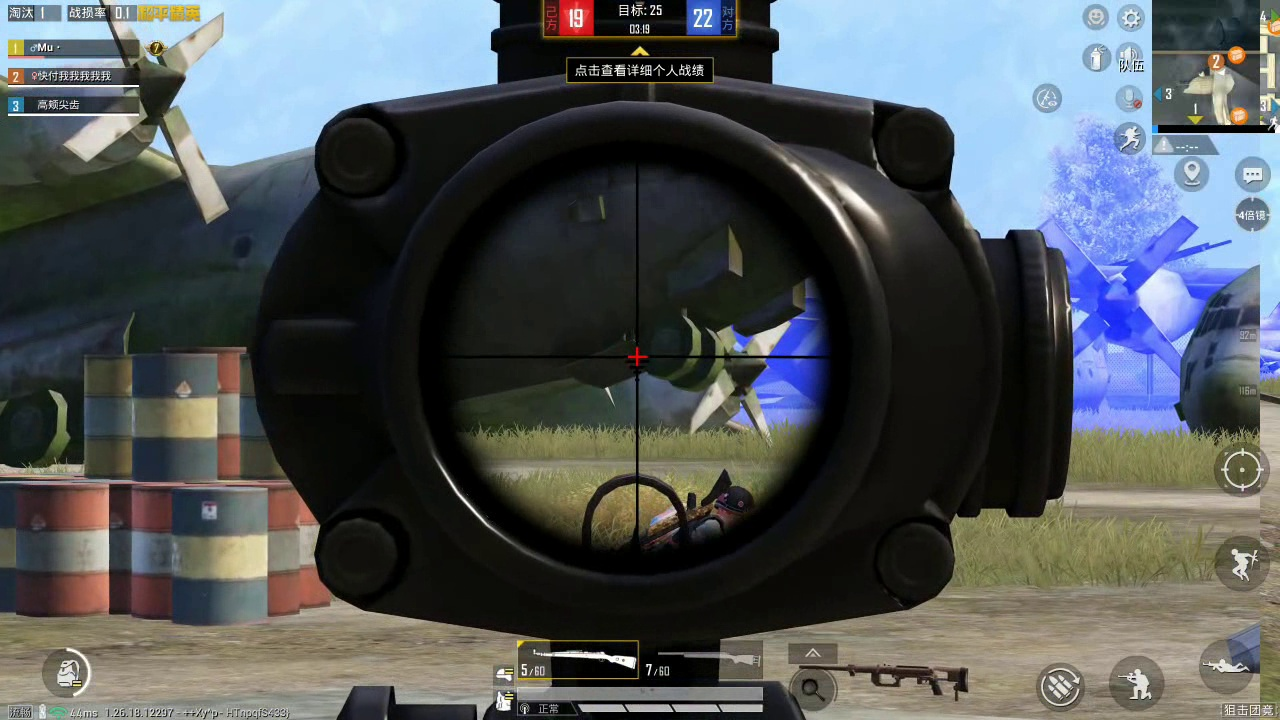enemy: (651, 477, 757, 549)
